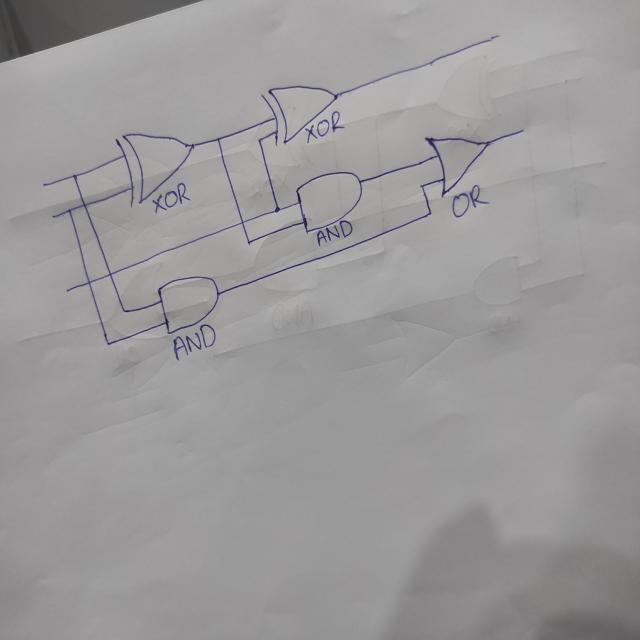crossover: (237, 214, 250, 229), (84, 274, 94, 287), (105, 268, 116, 279), (79, 199, 90, 209)
junction: (102, 335, 114, 348), (243, 235, 253, 248), (424, 207, 433, 220), (418, 180, 427, 192), (213, 132, 222, 144), (119, 305, 128, 315), (272, 204, 281, 214), (70, 171, 78, 180), (256, 136, 263, 146), (66, 206, 73, 214)
terminal: (486, 31, 502, 43), (516, 126, 526, 136), (39, 179, 48, 190), (63, 285, 72, 294), (50, 212, 56, 220)
text: (172, 323, 216, 361), (304, 108, 346, 144), (450, 184, 490, 218), (152, 181, 189, 210), (314, 218, 352, 244)
